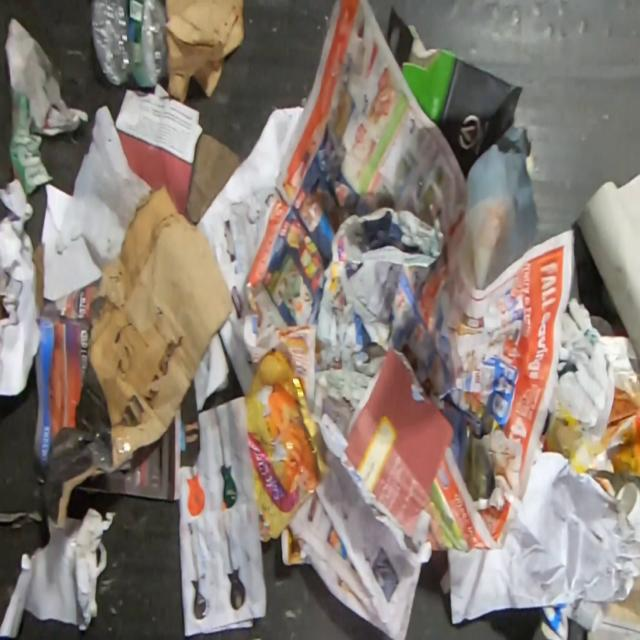cardboard: (42, 181, 237, 540), (384, 3, 526, 180), (3, 15, 89, 196), (164, 0, 246, 102), (184, 129, 243, 225)
rigid_plastic: (89, 0, 168, 87)
soft_plastic: (244, 348, 333, 543)
